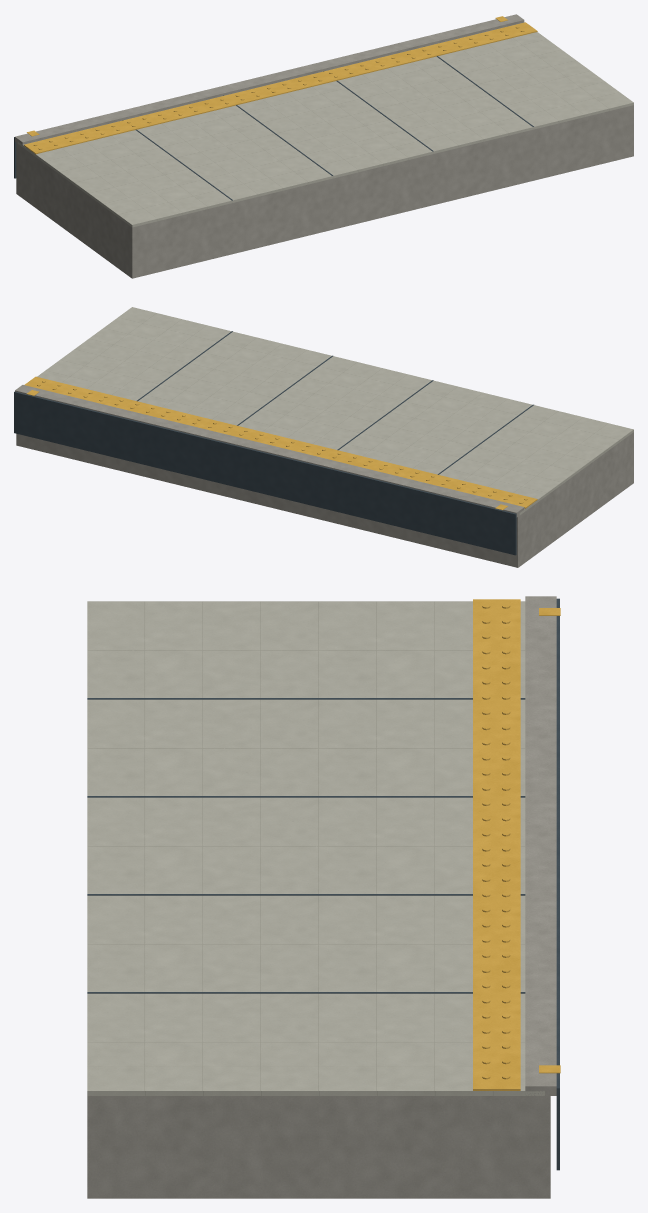
Rendered from PZ_GCR_08_Platform_Straight_10x4m.glb.
The picture shows the model from 3 angles, top to bottom: view 1: azimuth 30°, elevation 25°; view 2: azimuth 150°, elevation 25°; view 3: azimuth 270°, elevation 25°; orthographic projection. The views are drawn at different scales.
Parts seen in each view (by area): view 1: Platform_Straight_10x4m__Platform_Top_Paving, Platform_Straight_10x4m__Platform_Base_Concrete, Platform_Straight_10x4m__Platform_Yellow_Tactile_Band, Platform_Straight_10x4m__Platform_Trackside_Coping, Platform_Straight_10x4m__Platform_Tile_Expansion_Joint, Platform_Straight_10x4m__Platform_Tactile_Studs; view 2: Platform_Straight_10x4m__Platform_Top_Paving, Platform_Straight_10x4m__Platform_Dark_Edge_Guard, Platform_Straight_10x4m__Platform_Base_Concrete, Platform_Straight_10x4m__Platform_Yellow_Tactile_Band, Platform_Straight_10x4m__Platform_Trackside_Coping, Platform_Straight_10x4m__Platform_Tile_Expansion_Joint, Platform_Straight_10x4m__Platform_Tactile_Studs; view 3: Platform_Straight_10x4m__Platform_Top_Paving, Platform_Straight_10x4m__Platform_Base_Concrete, Platform_Straight_10x4m__Platform_Yellow_Tactile_Band, Platform_Straight_10x4m__Platform_Trackside_Coping, Platform_Straight_10x4m__Platform_Tile_Expansion_Joint, Platform_Straight_10x4m__Platform_Tactile_Studs, Platform_Straight_10x4m__Platform_Dark_Edge_Guard.
Part boxes in pixels (left/top/right/bottom): Platform_Straight_10x4m__Platform_Top_Paving: left=17, top=32, right=633, bottom=227; Platform_Straight_10x4m__Platform_Base_Concrete: left=16, top=105, right=633, bottom=278; Platform_Straight_10x4m__Platform_Yellow_Tactile_Band: left=24, top=22, right=537, bottom=154; Platform_Straight_10x4m__Platform_Trackside_Coping: left=15, top=14, right=524, bottom=144; Platform_Straight_10x4m__Platform_Tile_Expansion_Joint: left=122, top=46, right=533, bottom=200; Platform_Straight_10x4m__Platform_Tactile_Studs: left=33, top=26, right=524, bottom=149; Platform_Straight_10x4m__Platform_Top_Paving: left=37, top=307, right=633, bottom=515; Platform_Straight_10x4m__Platform_Dark_Edge_Guard: left=14, top=391, right=516, bottom=555; Platform_Straight_10x4m__Platform_Base_Concrete: left=16, top=432, right=633, bottom=567; Platform_Straight_10x4m__Platform_Yellow_Tactile_Band: left=24, top=376, right=537, bottom=508; Platform_Straight_10x4m__Platform_Trackside_Coping: left=15, top=385, right=524, bottom=517; Platform_Straight_10x4m__Platform_Tile_Expansion_Joint: left=137, top=331, right=533, bottom=474; Platform_Straight_10x4m__Platform_Tactile_Studs: left=37, top=380, right=527, bottom=503; Platform_Straight_10x4m__Platform_Top_Paving: left=87, top=601, right=544, bottom=1095; Platform_Straight_10x4m__Platform_Base_Concrete: left=87, top=1096, right=550, bottom=1198; Platform_Straight_10x4m__Platform_Yellow_Tactile_Band: left=473, top=599, right=520, bottom=1090; Platform_Straight_10x4m__Platform_Trackside_Coping: left=525, top=596, right=556, bottom=1095; Platform_Straight_10x4m__Platform_Tile_Expansion_Joint: left=87, top=698, right=525, bottom=993; Platform_Straight_10x4m__Platform_Tactile_Studs: left=482, top=604, right=510, bottom=1079; Platform_Straight_10x4m__Platform_Dark_Edge_Guard: left=556, top=598, right=559, bottom=1170.
Bounding box in the file's own units: 10 × 1.08 × 4.09.
4 materials, 4 textured.
